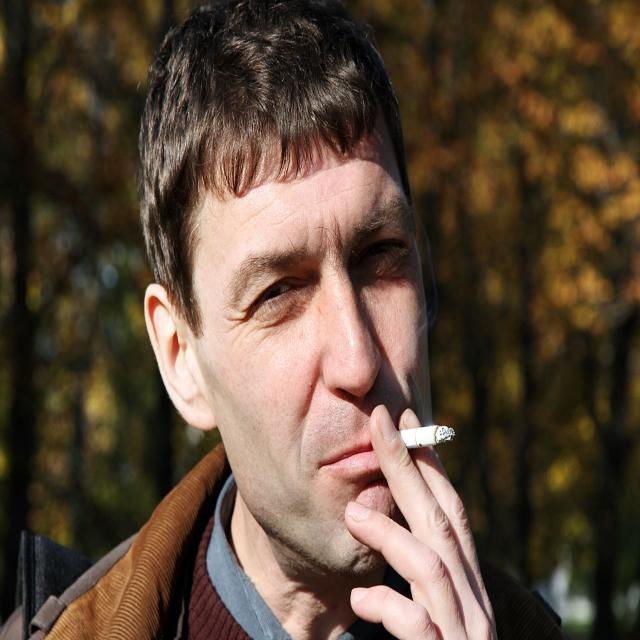smoke: (392, 420, 458, 459)
